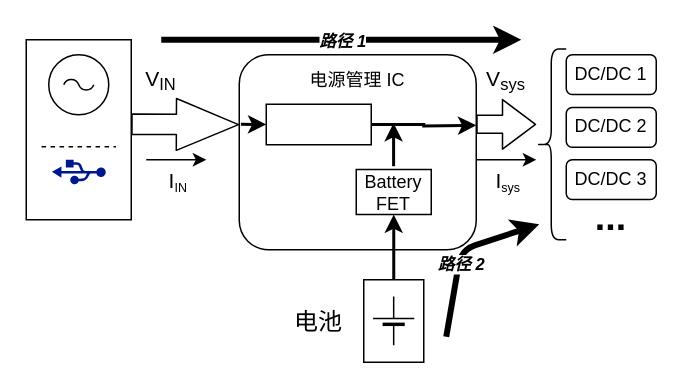
This 683x389 diagram has some shape labels left out. The centre of each missing label's shape, as x and y in pixels:
DC/DC: point 318,124
USB 输入: point 78,171
适配器输入: point 78,84
